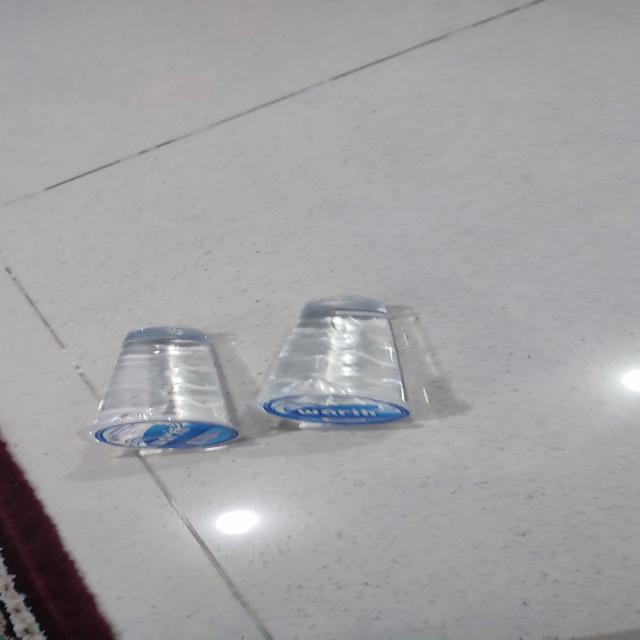air gelas: (252, 292, 422, 428), (76, 322, 247, 456)
